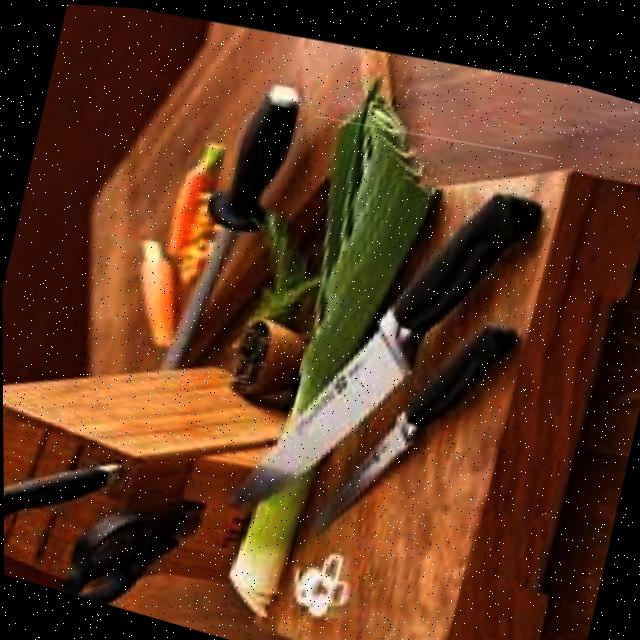knife: (224, 125, 548, 568), (308, 274, 528, 578), (2, 422, 126, 555)
